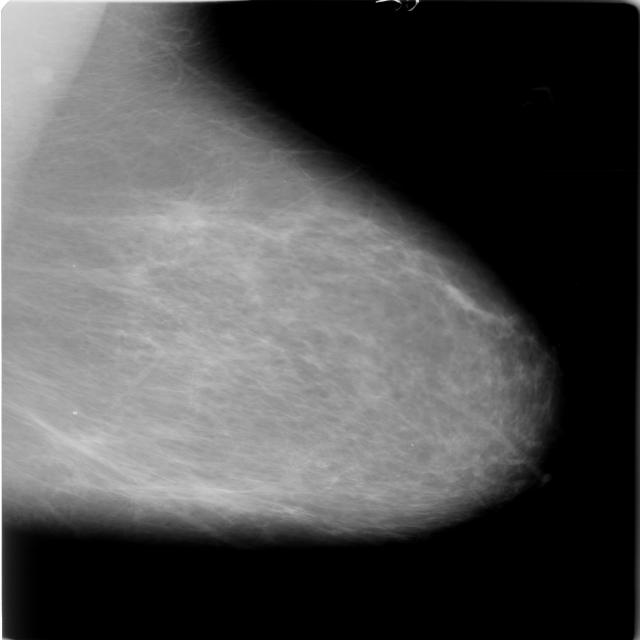normal: (0, 61, 557, 554)
